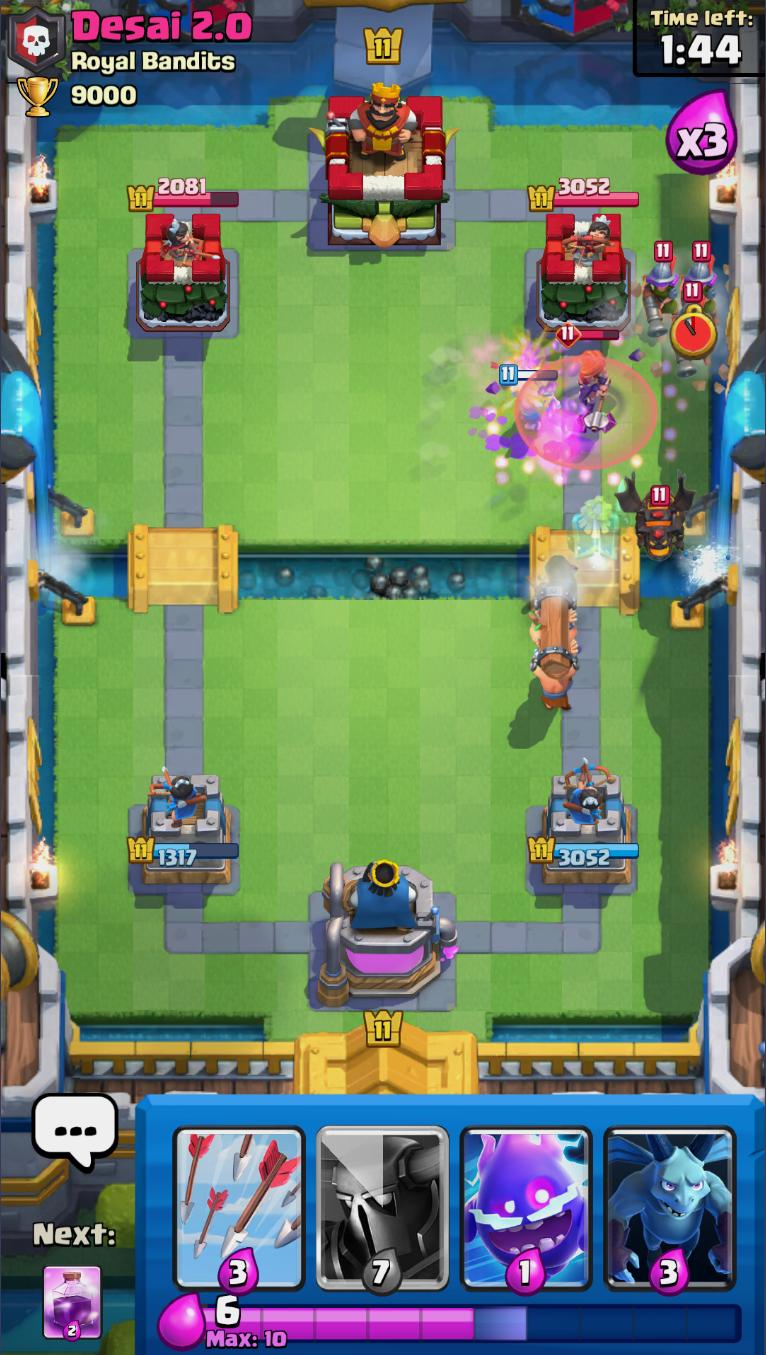ArrowDeck: (167, 1095, 310, 1296)
ElectroSpiritDeck: (456, 1094, 598, 1295)
Elixir: (203, 1295, 744, 1350)
EnemyTower: (533, 208, 631, 331), (133, 210, 229, 335)
EvoValkyrie: (554, 320, 620, 432)
KingTower: (308, 82, 456, 248)
LavaHound: (614, 469, 697, 566)
MinionsDeck: (599, 1094, 744, 1296)
Musketeer: (640, 240, 682, 339), (669, 283, 713, 376), (680, 242, 719, 329)
MyBandit: (523, 554, 578, 601)
MyBarbarian: (497, 364, 557, 432)
MyBattleRam: (526, 585, 580, 713)
MyKingTower: (319, 856, 458, 1009)
MyPrincessTower: (524, 771, 639, 887), (125, 769, 238, 887)
MyPrincessTowerHP: (125, 836, 238, 868), (525, 835, 637, 867)
MyRoyaleGhost: (568, 479, 625, 562)
PekkaDeck: (311, 1095, 455, 1296)
PrincessTower: (546, 213, 603, 264), (148, 214, 204, 264)
RageNext: (40, 1264, 105, 1344)
TowerPrincessHP: (126, 178, 239, 213), (526, 178, 639, 212)
